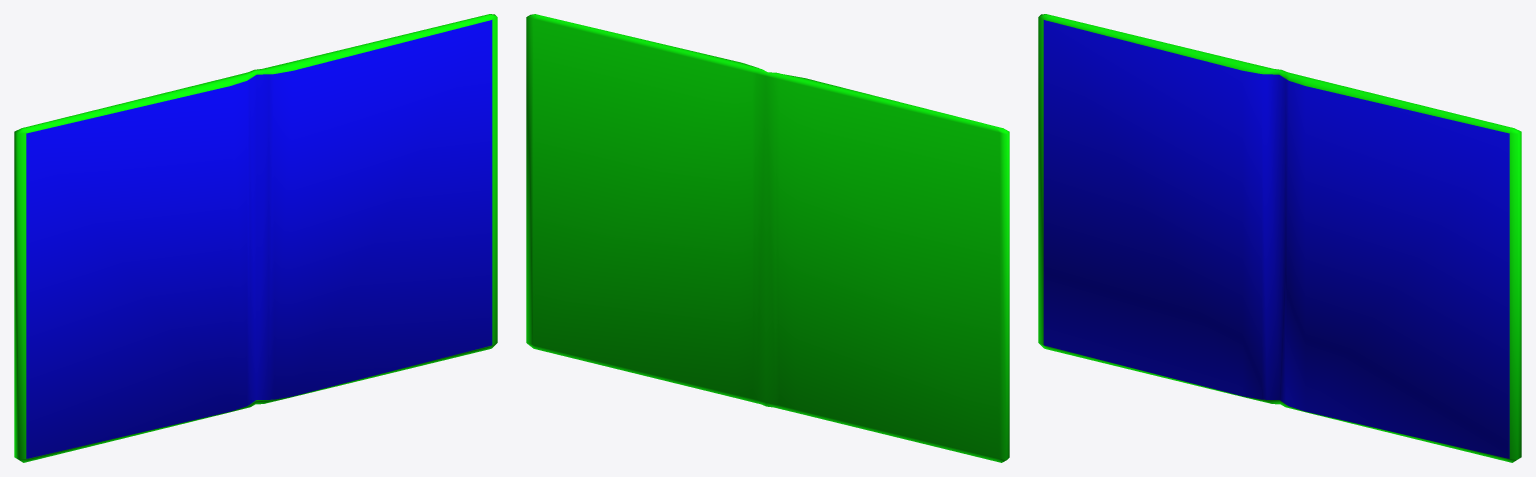
File: Cuaderno.fbx
3 views of the same model, side by side, from view 1: azimuth 30°, elevation 25°; view 2: azimuth 150°, elevation 25°; view 3: azimuth 330°, elevation 25° (orthographic).
Visible parts, largest first — view 1: Cuaderno; view 2: Cuaderno; view 3: Cuaderno.
Boxes of the visible parts, x1,y1,x2,y2 form: Cuaderno: [14, 14, 497, 462]; Cuaderno: [526, 14, 1009, 462]; Cuaderno: [1038, 14, 1521, 462].
Bounding box in the file's own units: 40.78 × 27.04 × 1.16.
